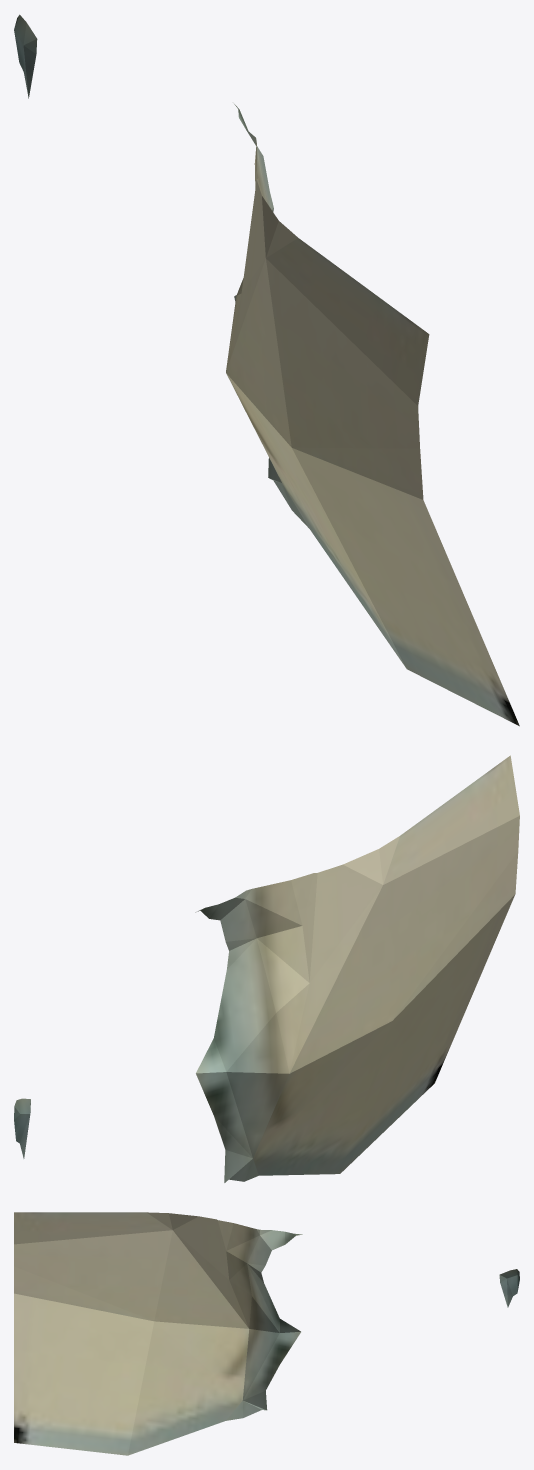
3 views of the same model, one above another, from view 1: azimuth 30°, elevation 25°; view 2: azimuth 150°, elevation 25°; view 3: azimuth 270°, elevation 25° (orthographic). The views are drawn at different scales.
Bounding box in the file's own units: 0.2018 × 0.833 × 1.73.
1 material, 1 textured.
